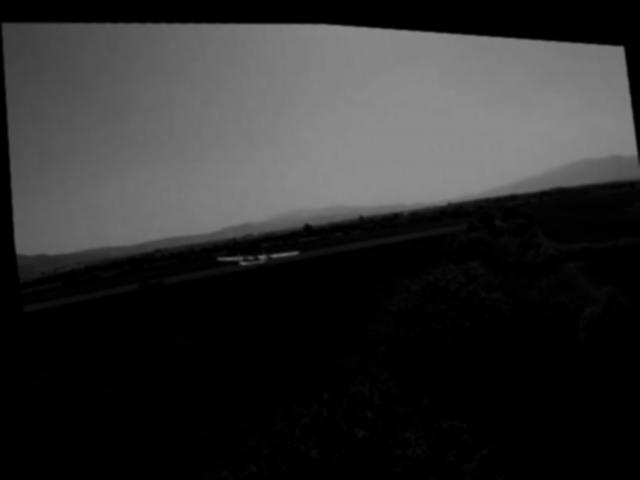hedef: (205, 221, 311, 279)
